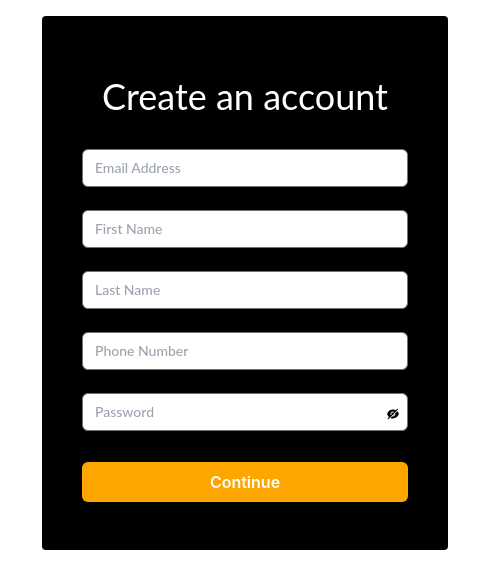
Test case: SignUp Page testing › should perform validations correctly
Click the button "Continue" at (245, 482), box top-left (82, 462), bottom-right (408, 502)
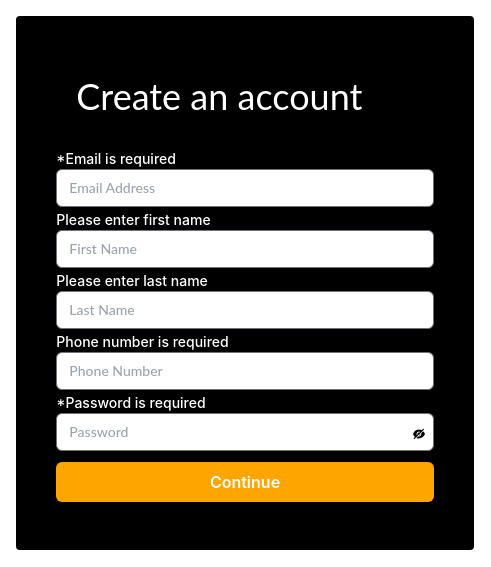
Expected: the text "*Email is required" is shown, top-left (56, 150), bottom-right (176, 167)
Expected: the text "Please enter first name" is shown, top-left (56, 211), bottom-right (211, 228)
Expected: the text "Please enter last name" is shown, top-left (56, 272), bottom-right (208, 289)
